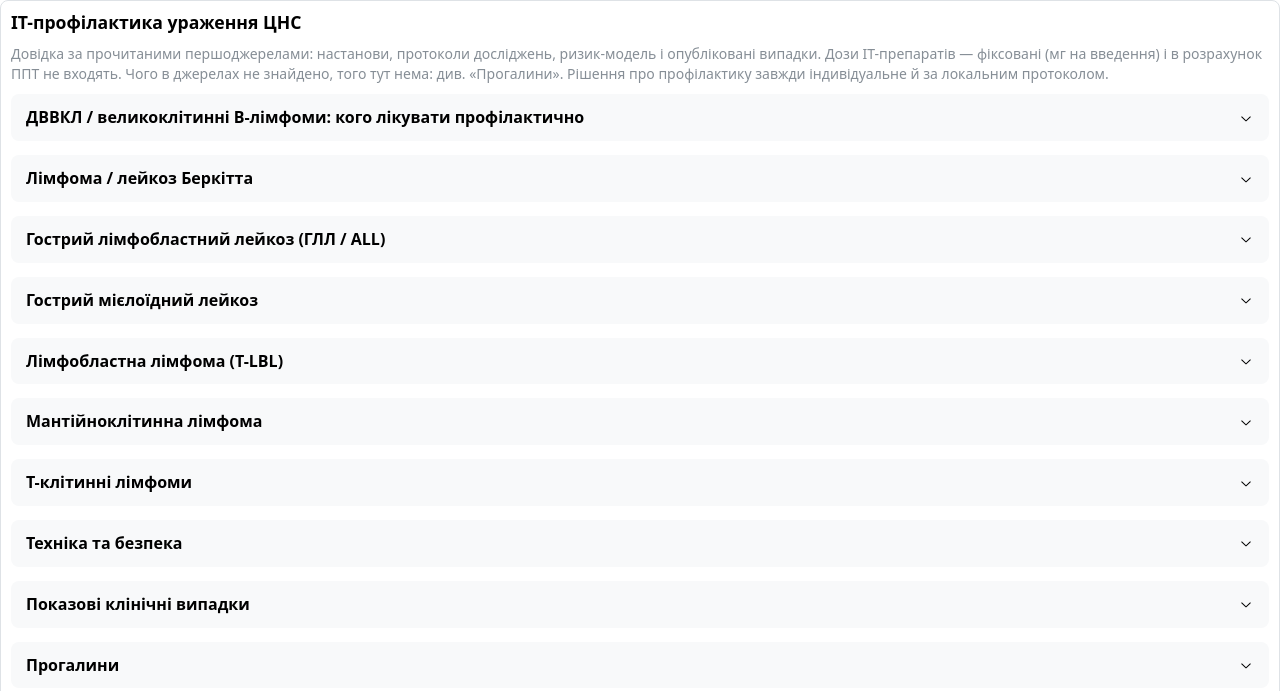
Test: CnsProphylaxisSection › opens a topic on request and warns that vincristine is intravenous only
This screenshot has width=1280, height=691.
Click the button "Техніка та безпека" at (104, 543), box [12,521,1268,566]
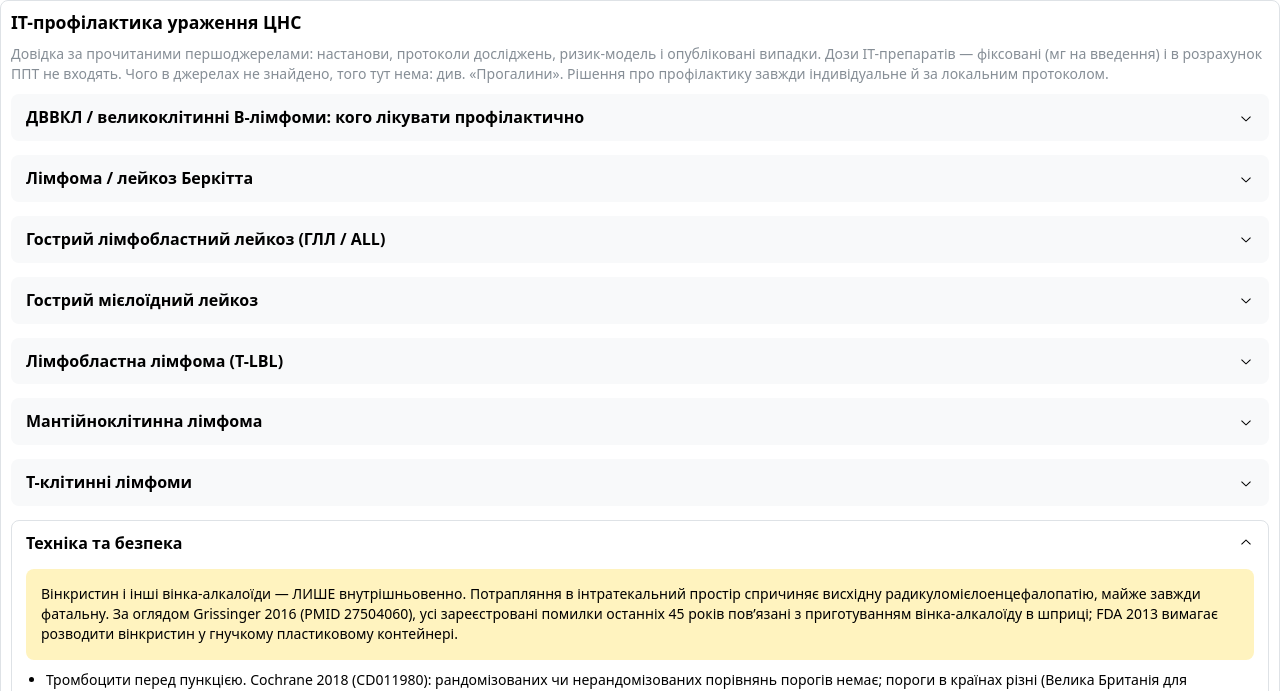
Check: the button "Техніка та безпека" is expanded, box [12,521,1268,566]
Check: the text "ЛИШЕ внутрішньовенно" is shown, box [41,584,1218,643]
